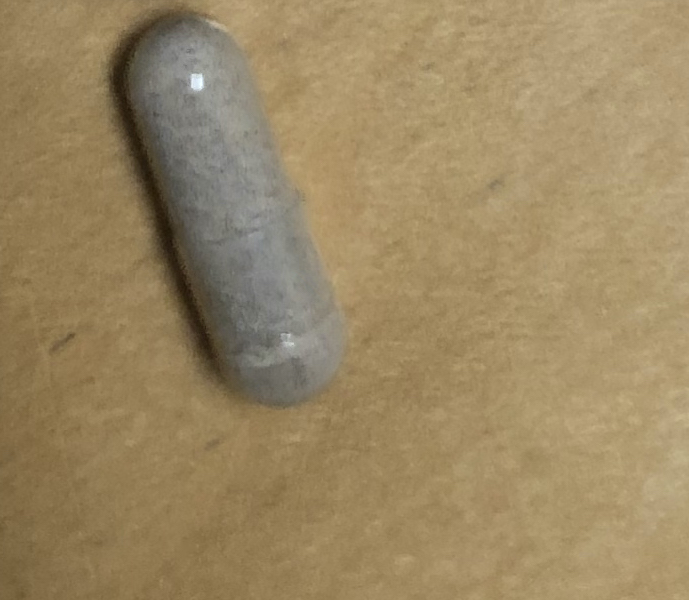capsule: (121, 14, 346, 405)
